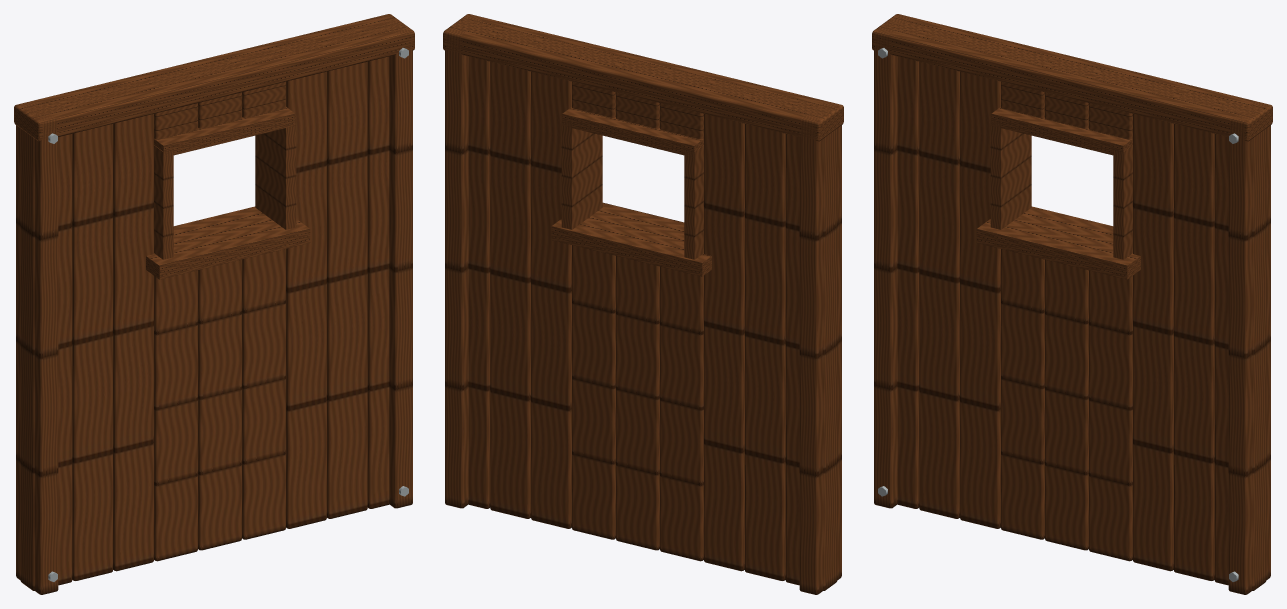
Rendered from roadside-survival-stops-utility-vent-wall-b3c07b4d__23514.glb.
The picture shows the model from 3 angles, left to right: view 1: azimuth 30°, elevation 25°; view 2: azimuth 150°, elevation 25°; view 3: azimuth 330°, elevation 25°; orthographic projection.
Visible parts, largest first — view 1: utility-vent-wall; view 2: utility-vent-wall; view 3: utility-vent-wall.
Part boxes in pixels (<box>): utility-vent-wall: <box>14,14,414,594</box>; utility-vent-wall: <box>443,14,843,594</box>; utility-vent-wall: <box>872,14,1272,594</box>.
Bounding box in the file's own units: 2 × 2.4 × 0.3399.
Materials: 2 (1 with a texture image).
